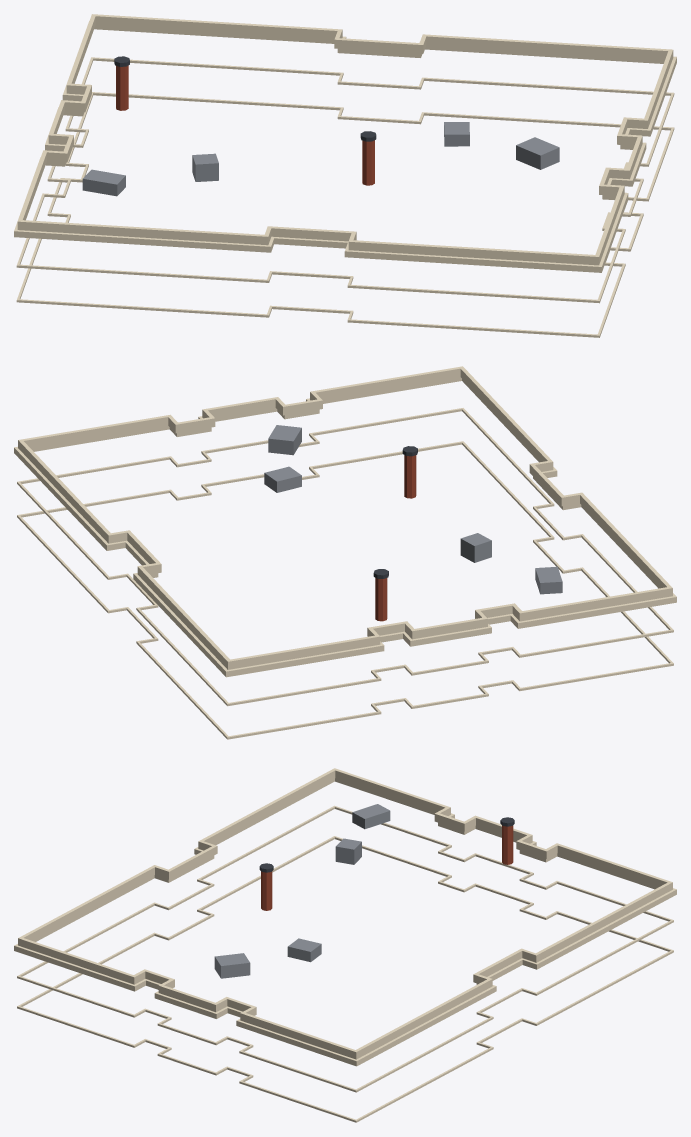
File: yemekhane.glb
3 views of the same model, one above another, from view 1: azimuth 30°, elevation 25°; view 2: azimuth 150°, elevation 25°; view 3: azimuth 270°, elevation 25° (orthographic). The views are drawn at different scales.
Visible parts, largest first — view 1: yemekhane; view 2: yemekhane; view 3: yemekhane.
Boxes of the visible parts, box(x1,y1,x2,y2) form: yemekhane: box(14, 14, 676, 337); yemekhane: box(14, 366, 676, 739); yemekhane: box(14, 768, 676, 1122).
Bounding box in the file's own units: 71.44 × 12.12 × 69.61.
